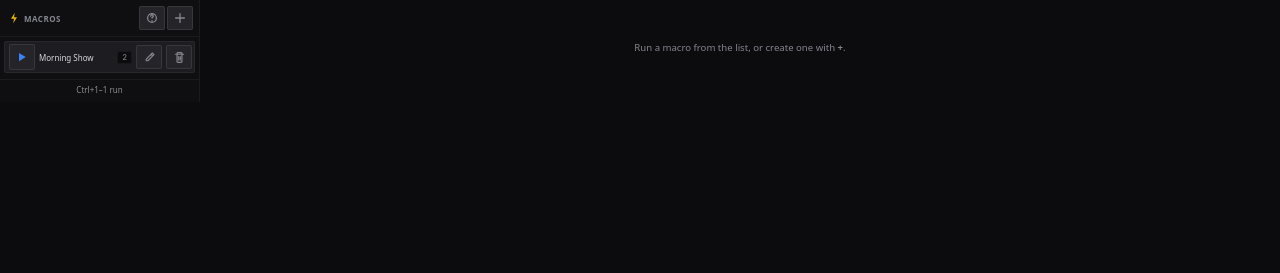
Test: MacroPanel › loads existing macro into editor on edit click
Click the button with class "edit-btn" at (149, 57), box [136,45,162,69]
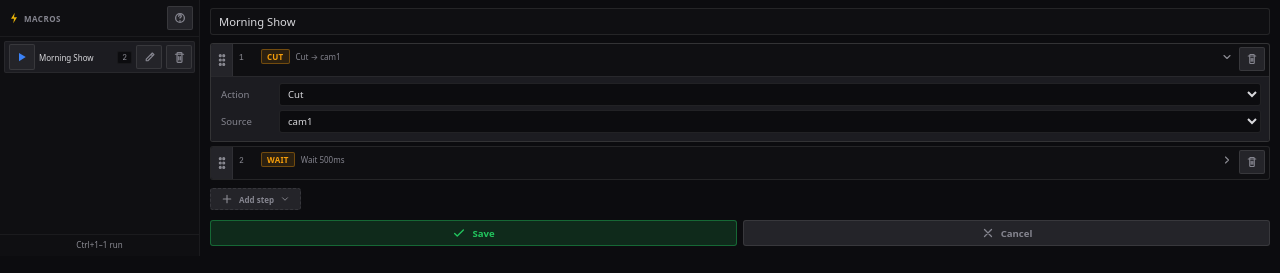
Expected: the field with class "macro-name-input" is shown, [210,8,1270,35]
Expected: the number of list items with class "step-card" is 2, [210,43,1270,142]; [210,146,1270,180]
